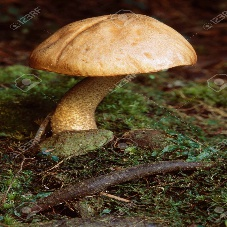mushroom: (25, 14, 199, 133)
